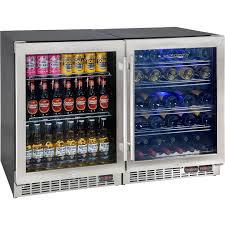beer: (25, 117, 113, 161), (25, 78, 110, 112), (26, 52, 110, 77)
